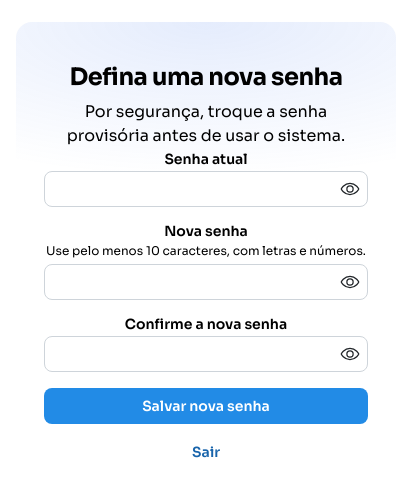
ChangePasswordPage › rejects a confirmation that does not match
Type "Old-Pass-123" into the password field labelled "Senha atual" at (206,190), box 45,172 -> 367,206
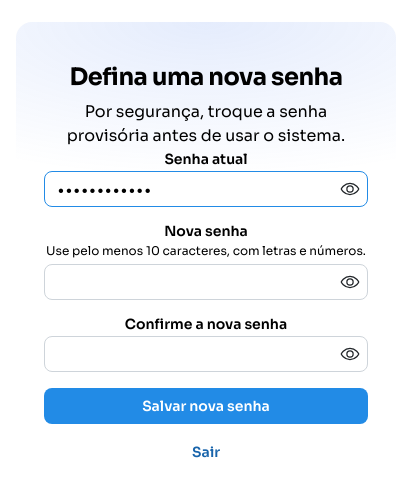
Type "Brand-New-Pass-9" into the password field labelled "Nova senha" at (206,282), box 45,265 -> 367,299
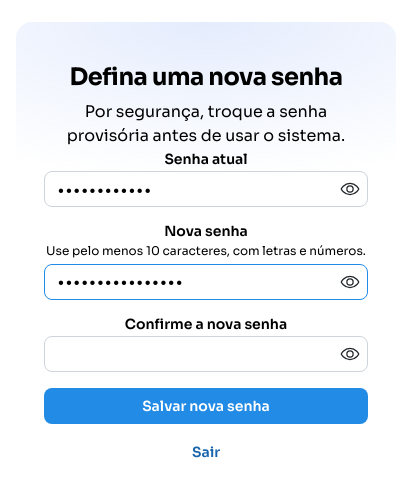
Type "Brand-New-Pass-8" into the password field labelled "Confirme a nova senha" at (206,354), box 45,338 -> 367,372
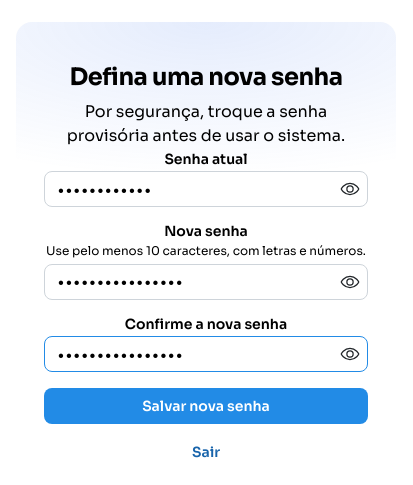
Click the button "Salvar nova senha" at (206,406), box 44,388 -> 368,424
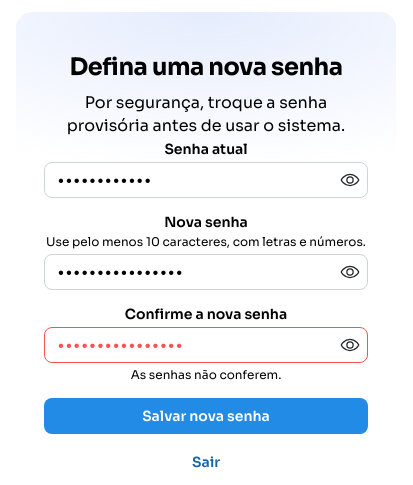
Expected: the text "As senhas não conferem." is shown, 131,367 -> 281,382
